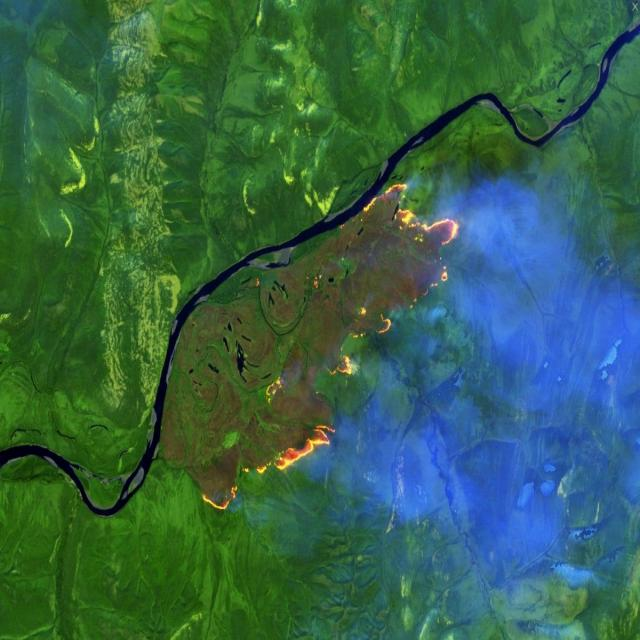fire: (208, 343, 354, 527), (356, 174, 464, 354)
